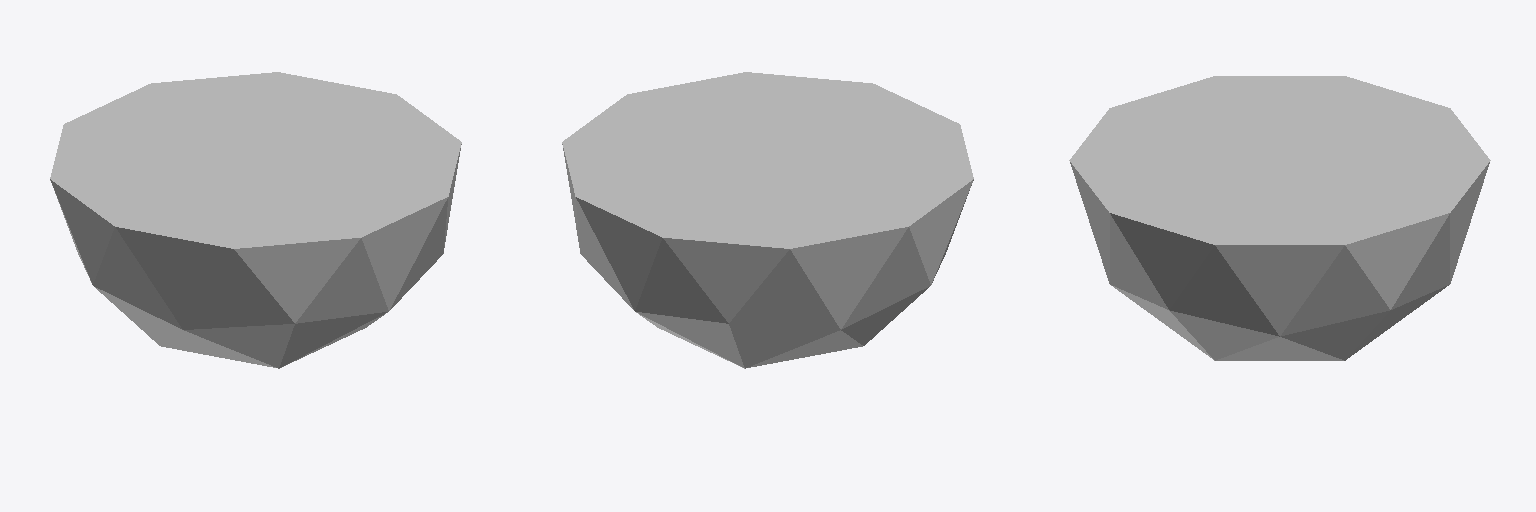
File: lowerJaw1.obj
3 views of the same model, side by side, from view 1: azimuth 30°, elevation 25°; view 2: azimuth 150°, elevation 25°; view 3: azimuth 270°, elevation 25° (orthographic).
Parts seen in each view (by area): view 1: Icosphere; view 2: Icosphere; view 3: Icosphere.
Boxes of the visible parts, <box> form: Icosphere: <box>50,72,461,368</box>; Icosphere: <box>562,72,973,368</box>; Icosphere: <box>1069,76,1490,360</box>.
Bounding box in the file's own units: 1.14 × 0.6 × 1.2.